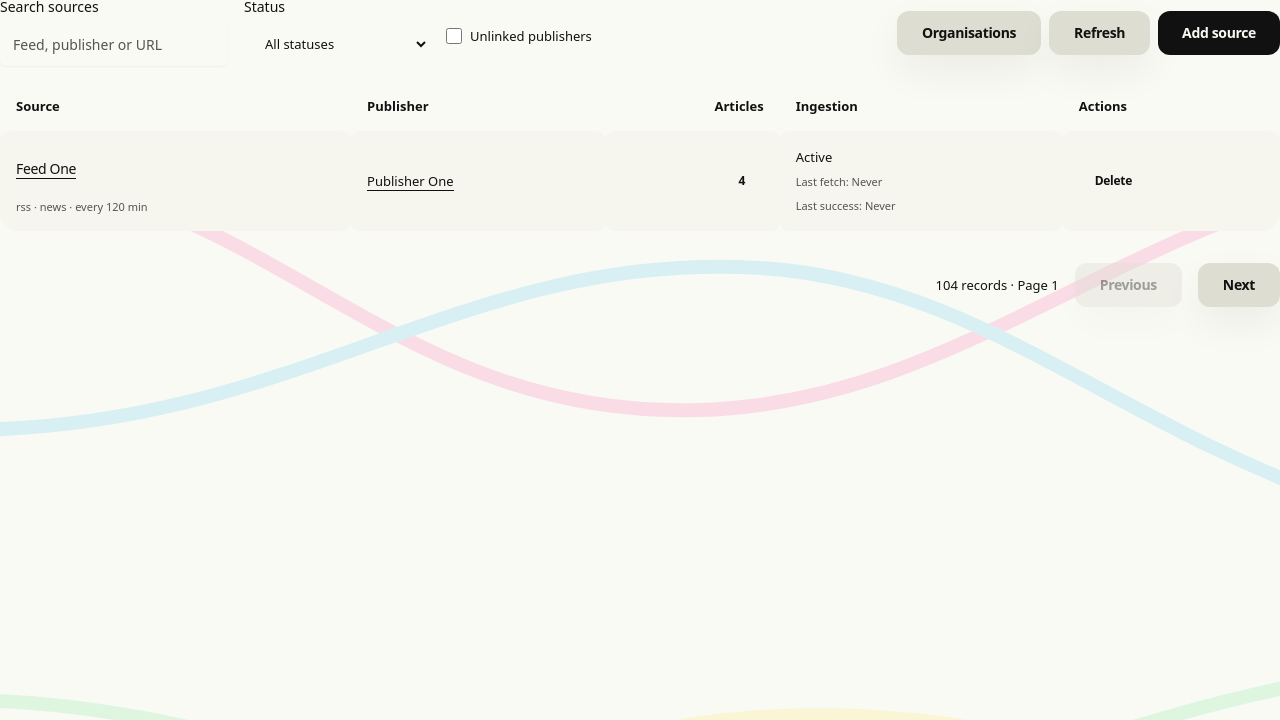
Test: News source workspace › saves feed configuration separately from publisher identity and diagnostics
The width and height of the screenshot is (1280, 720).
Click the button with aria-label "Edit Feed One": (46, 168) [16,146,76,190]
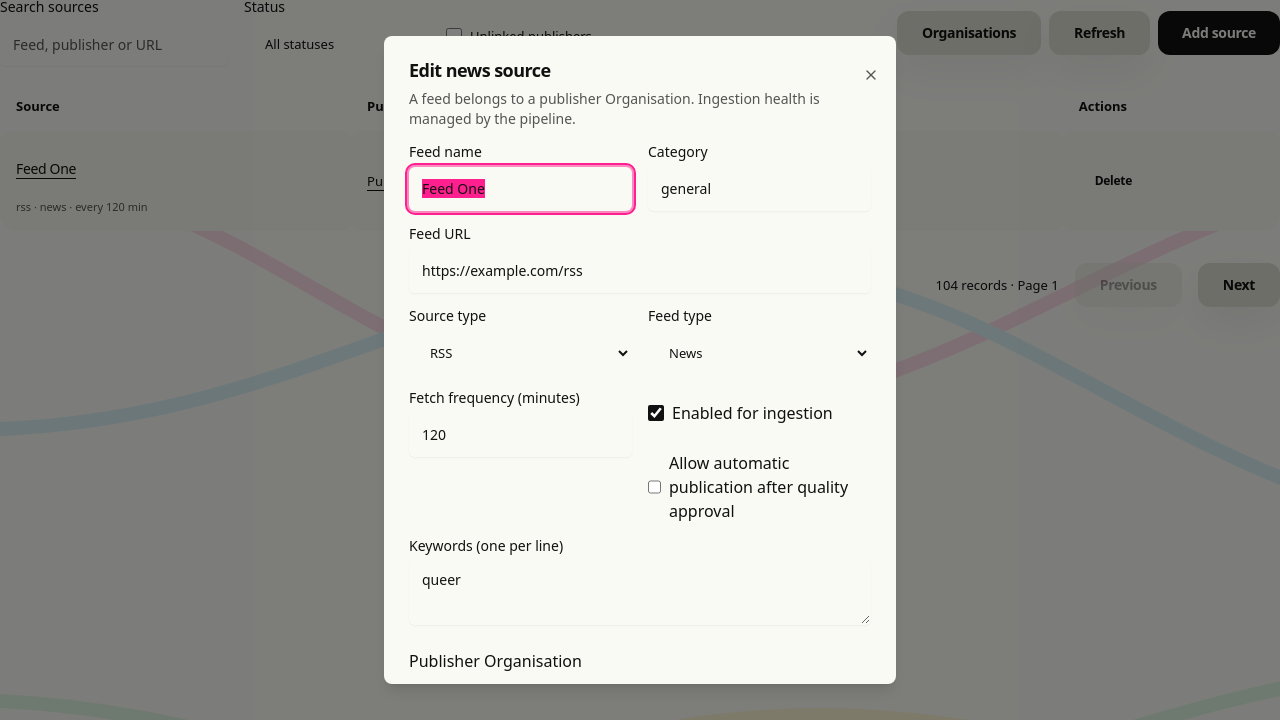
Replace the text in the field labelled "Feed name" with "Feed renamed": (520, 189) [409,167,632,211]
(page scrolled)
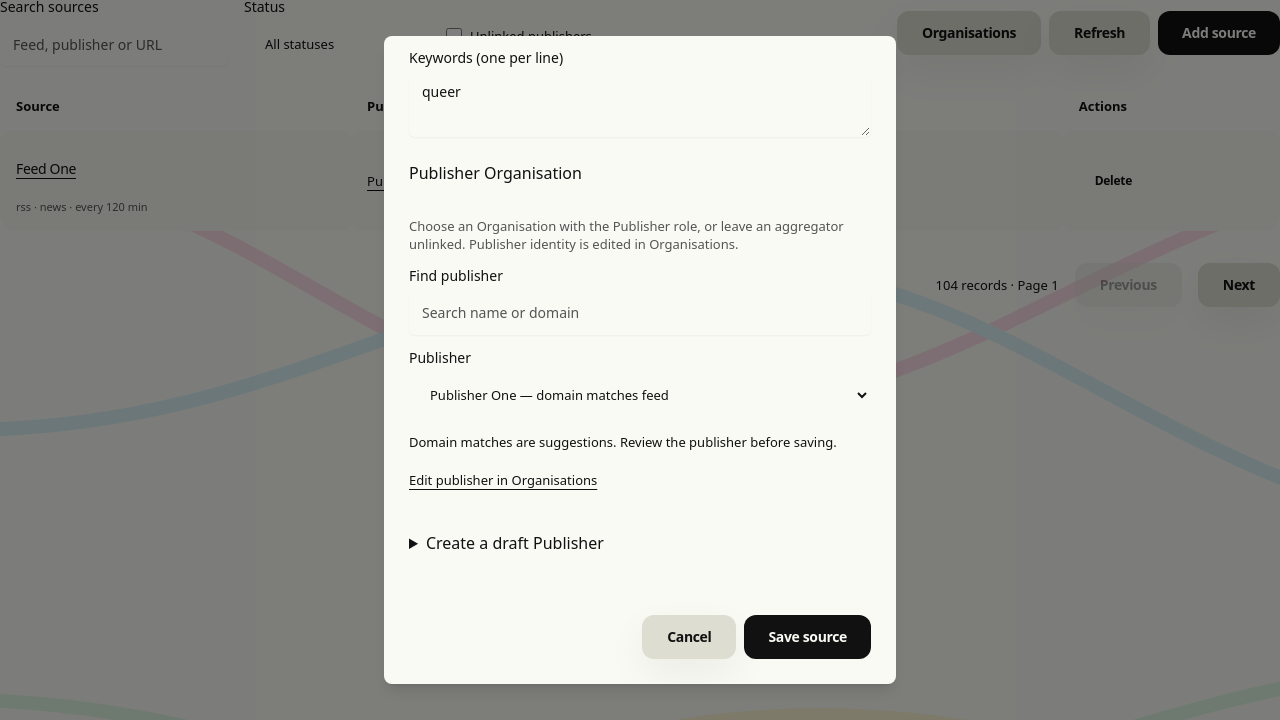
Select "Unlinked" in the dropdown labelled "Publisher": (640, 395) [409,373,871,417]
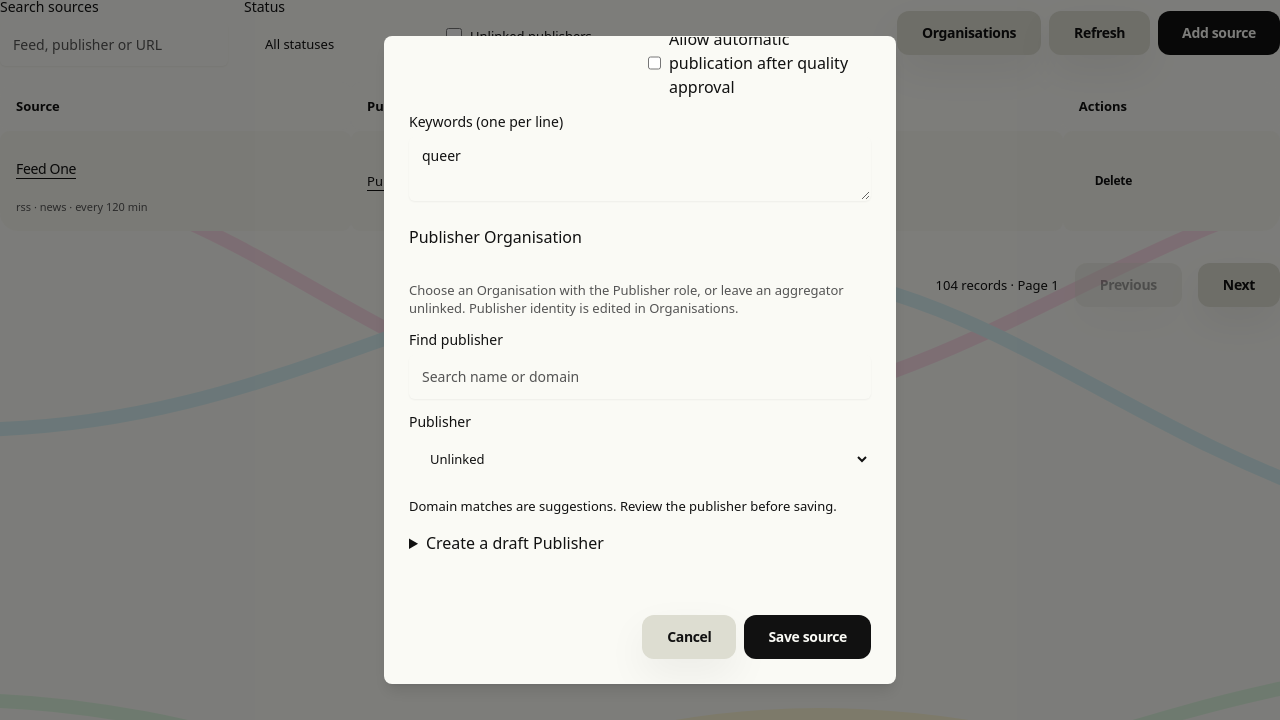
Click the button "Save source": (808, 637) [744,615,871,659]
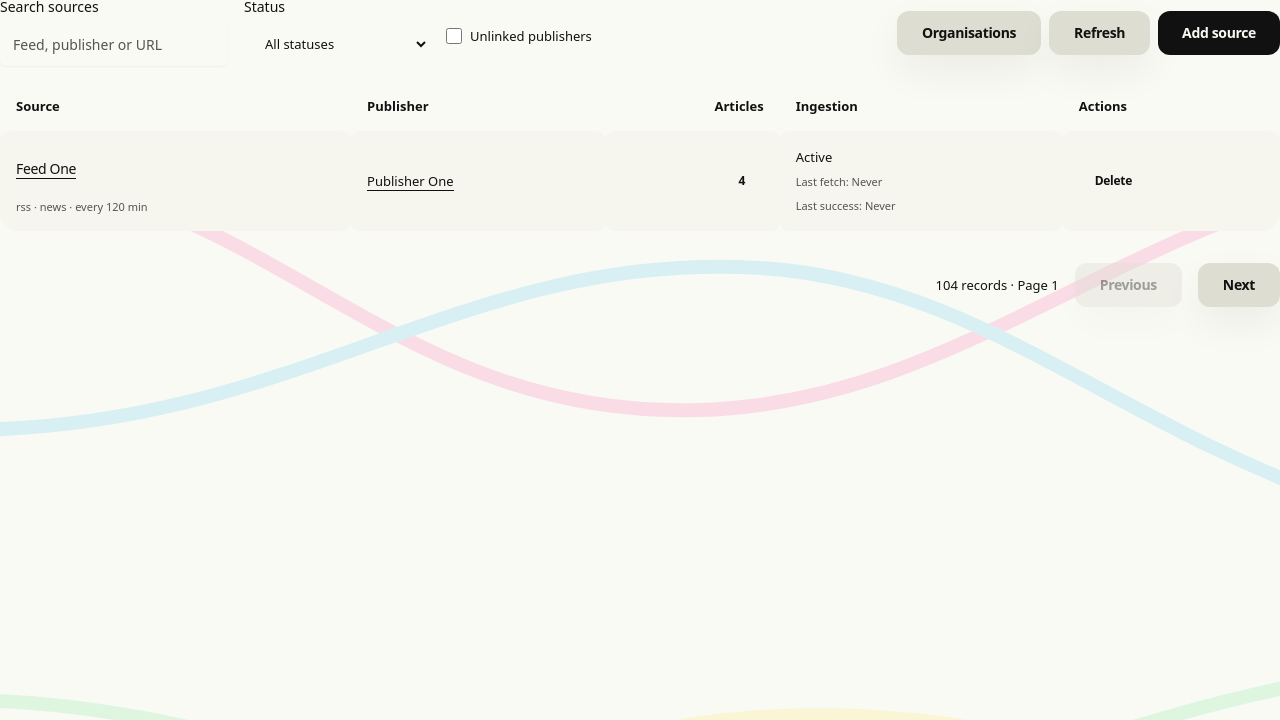
Result: the dialog is gone
